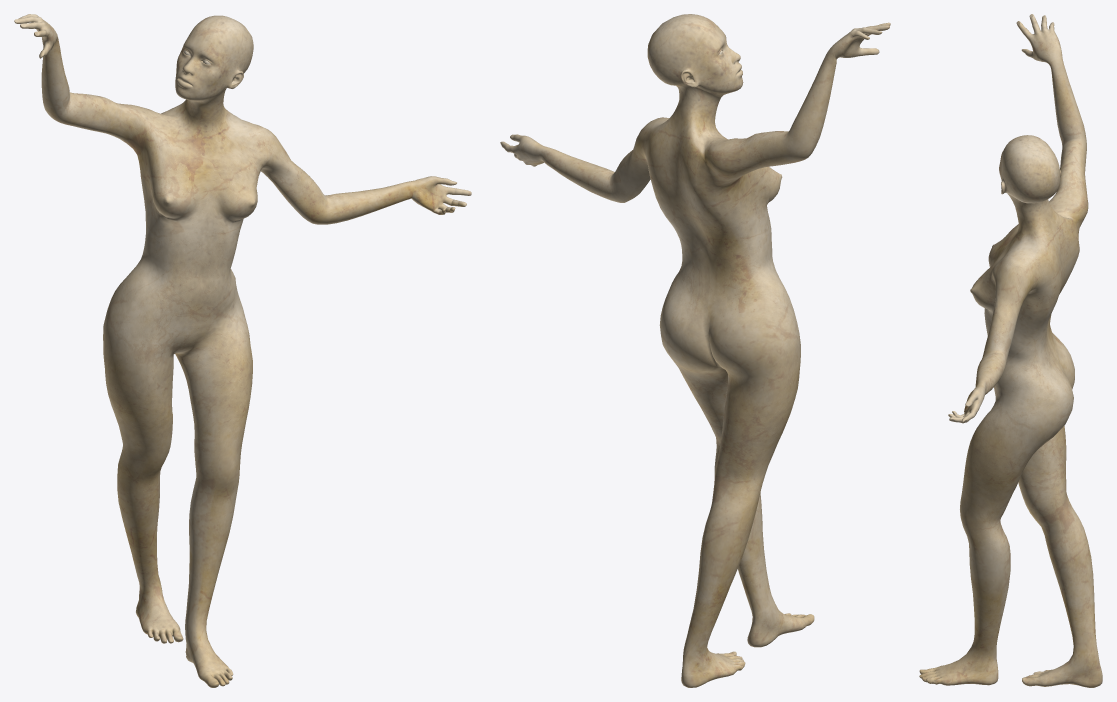
Rendered from mansion-statue2.glb.
3 renders of one model, left to right at view 1: azimuth 30°, elevation 25°; view 2: azimuth 150°, elevation 25°; view 3: azimuth 270°, elevation 25°, orthographic. The views are drawn at different scales.
Bounding box in the file's own units: 1.23 × 1.85 × 0.5117.
2 materials, 2 textured.
